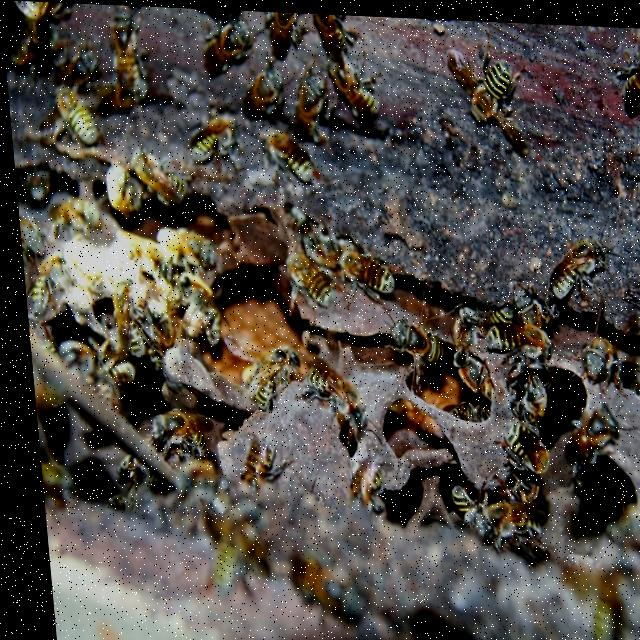Meliponula: (540, 219, 610, 302), (461, 40, 517, 134), (106, 4, 157, 102), (560, 394, 621, 474), (141, 402, 211, 469), (100, 272, 149, 365), (37, 82, 105, 144), (228, 344, 287, 415), (497, 407, 550, 486), (483, 298, 551, 358), (254, 124, 325, 181), (231, 415, 279, 495), (176, 114, 243, 171), (384, 310, 445, 367), (330, 62, 388, 116), (567, 317, 616, 379), (486, 490, 535, 551), (343, 455, 385, 523), (446, 339, 490, 400), (500, 454, 541, 519), (438, 474, 487, 522), (296, 346, 332, 408), (506, 370, 546, 420), (448, 292, 474, 333)
